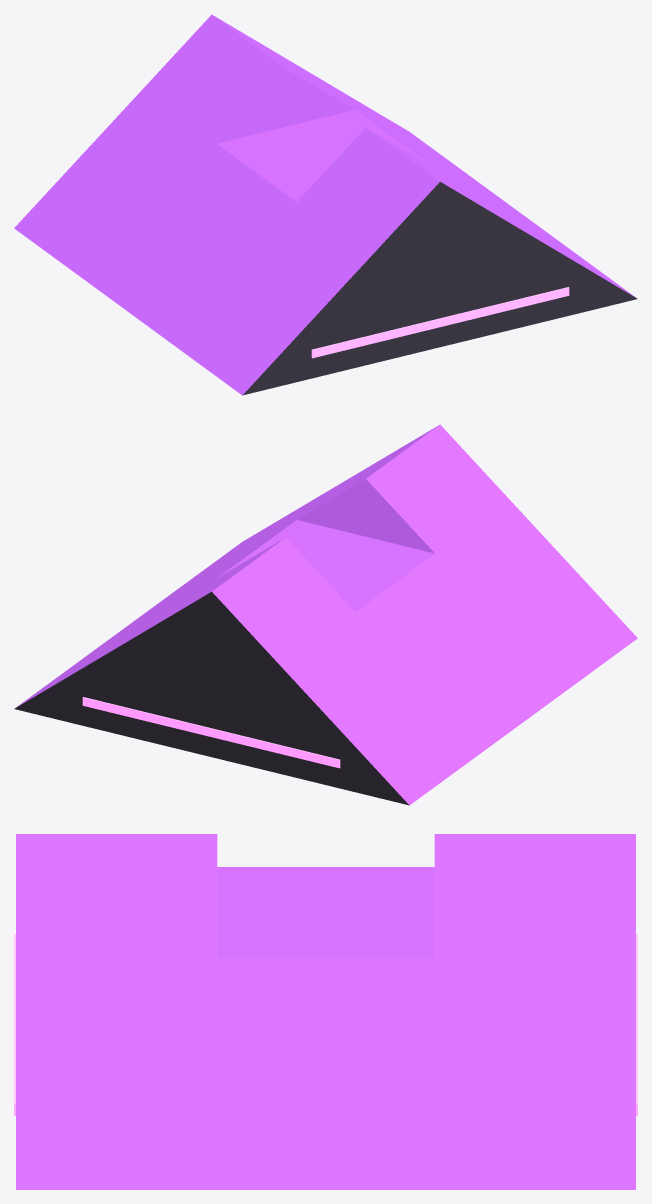
The model's file is boss_cube_wedge_bottom.glb.
3 views of the same model, one above another, from view 1: azimuth 30°, elevation 25°; view 2: azimuth 150°, elevation 25°; view 3: azimuth 270°, elevation 25° (orthographic). The views are drawn at different scales.
Parts seen in each view (by area): view 1: boss_cube_wedge_bottom; view 2: boss_cube_wedge_bottom; view 3: boss_cube_wedge_bottom.
Boxes of the visible parts, x1,y1,x2,y2 form: boss_cube_wedge_bottom: (14, 14, 637, 395); boss_cube_wedge_bottom: (14, 424, 637, 805); boss_cube_wedge_bottom: (14, 834, 637, 1189).
Bounding box in the file's own units: 2 × 0.8048 × 2.01.
